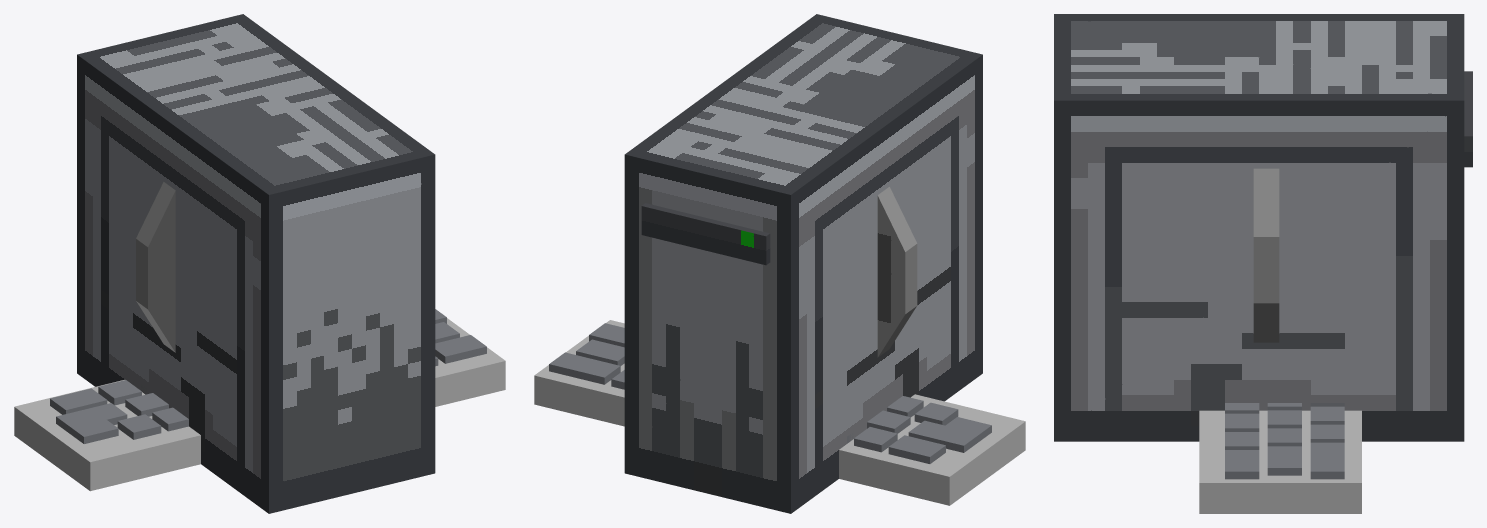
The model's file is Clock.fbx.
3 views of the same model, side by side, from view 1: azimuth 30°, elevation 25°; view 2: azimuth 150°, elevation 25°; view 3: azimuth 270°, elevation 25° (orthographic). The views are drawn at different scales.
Parts seen in each view (by area): view 1: cube, cube_2, circle, cube_30, cube_3, cube_31, cube_32, cube_33, cube_29, cube_26, cube_21; view 2: cube, cube_2, circle, cube_1, cube_22, cube_30, cube_31, cube_7, cube_29, cube_32, cube_26, cube_3; view 3: cube, cube_2, circle, cube_22, cube_7, cube_3, cube_1, cube_5, cube_6, cube_8, cube_18, cube_23 (+1 smaller).
Boxes of the visible parts, bbox=[...] form: cube: bbox=[77, 14, 435, 513]; cube_2: bbox=[14, 318, 505, 491]; circle: bbox=[136, 182, 175, 352]; cube_30: bbox=[56, 403, 127, 434]; cube_3: bbox=[435, 335, 486, 363]; cube_31: bbox=[50, 388, 107, 414]; cube_32: bbox=[117, 414, 161, 439]; cube_33: bbox=[72, 420, 118, 443]; cube_29: bbox=[98, 380, 141, 405]; cube_26: bbox=[125, 393, 168, 416]; cube_21: bbox=[152, 407, 188, 431]; cube: bbox=[624, 14, 982, 513]; cube_2: bbox=[534, 320, 1025, 505]; circle: bbox=[877, 187, 917, 357]; cube_1: bbox=[641, 203, 770, 265]; cube_22: bbox=[549, 352, 620, 384]; cube_30: bbox=[908, 420, 979, 452]; cube_31: bbox=[888, 435, 945, 463]; cube_7: bbox=[576, 339, 624, 365]; cube_29: bbox=[854, 427, 897, 452]; cube_32: bbox=[914, 402, 958, 425]; cube_26: bbox=[867, 410, 910, 433]; cube_3: bbox=[589, 323, 624, 347]; cube: bbox=[1054, 14, 1464, 441]; cube_2: bbox=[1199, 410, 1361, 513]; circle: bbox=[1253, 168, 1279, 342]; cube_22: bbox=[1310, 442, 1344, 479]; cube_7: bbox=[1267, 446, 1301, 475]; cube_3: bbox=[1225, 450, 1259, 479]; cube_1: bbox=[1464, 71, 1472, 167]; cube_5: bbox=[1225, 413, 1259, 431]; cube_6: bbox=[1267, 410, 1301, 428]; cube_8: bbox=[1267, 428, 1301, 446]; cube_18: bbox=[1310, 406, 1344, 424]; cube_23: bbox=[1310, 424, 1344, 442].
Bounding box in the file's own units: 93.75 × 68.75 × 76.56.
